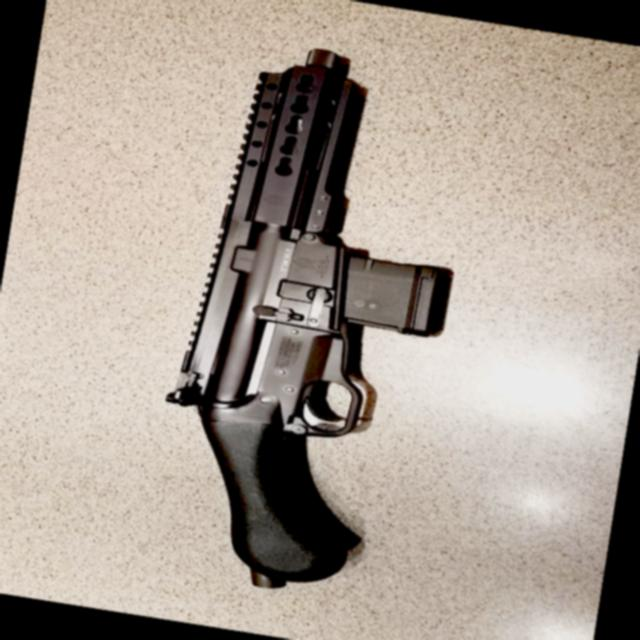shotgun: (159, 31, 471, 610)
